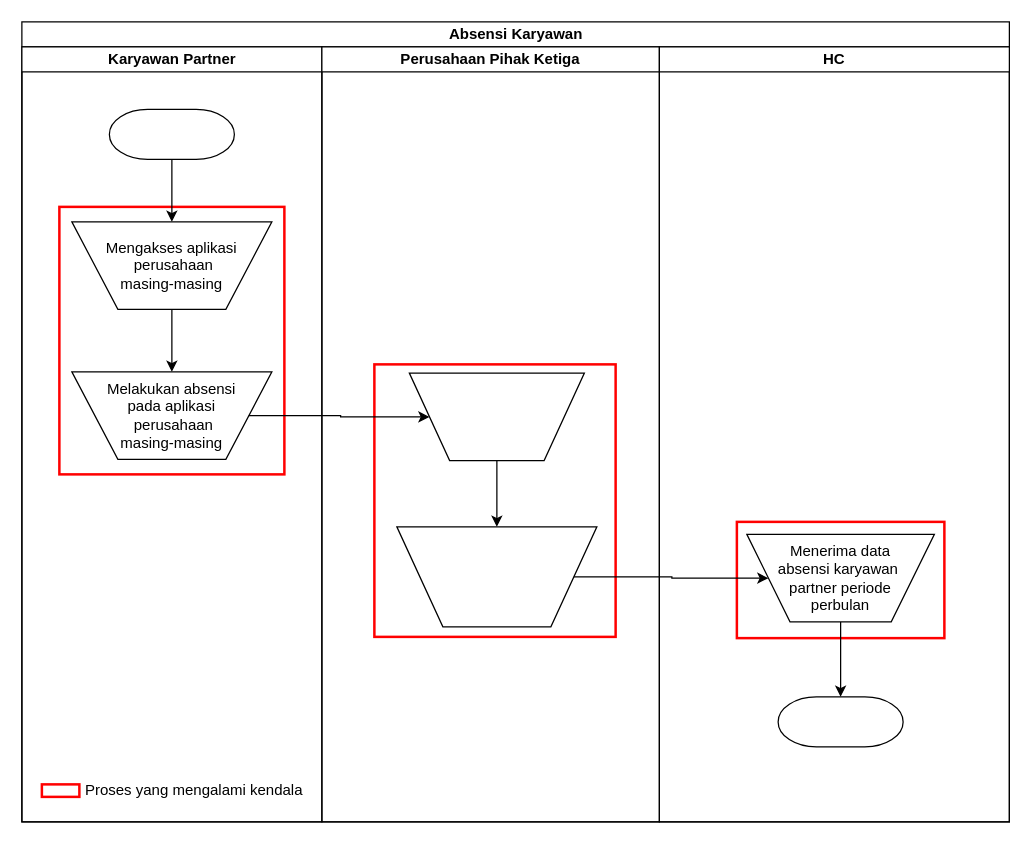
This 1031x844 diagram has some shape labels left out. The centre of each missing label's shape, as x and y in pixels:
Mengirim data absensi karyawan partner kepada Admin HC PT. UTPE periode perbulan: [496,576]
Merekap data absensi karyawan partner periode perbulan: [496,416]
MULAI: [171,133]
SELESAI: [840,721]
